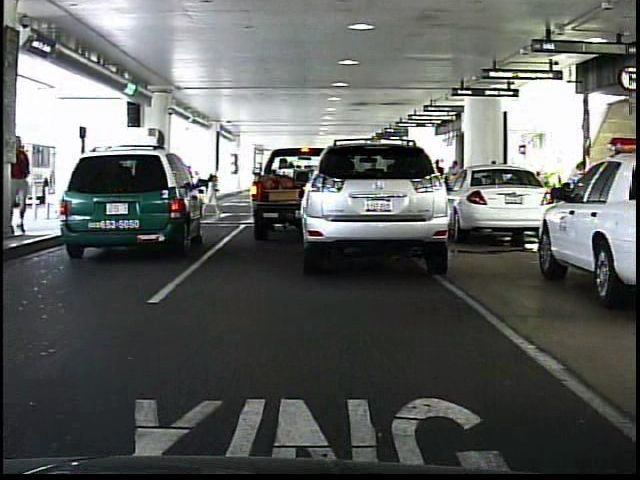person: (10, 132, 37, 240), (199, 169, 225, 223), (448, 157, 463, 177)
